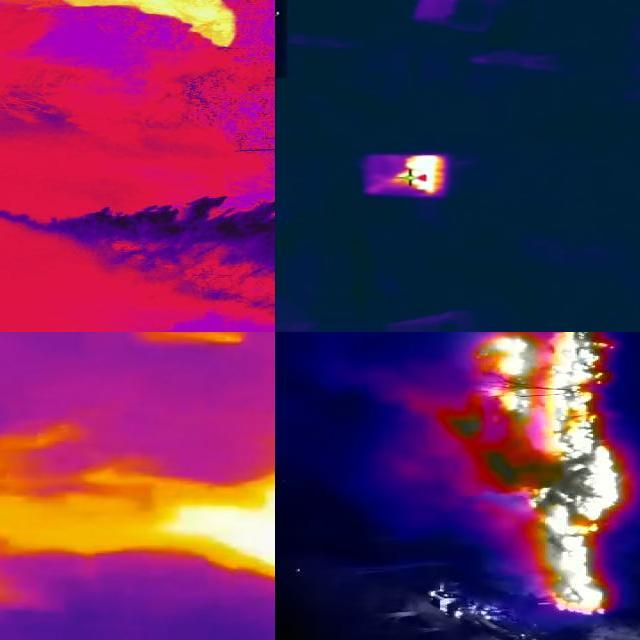fire: (460, 330, 637, 617), (166, 486, 266, 597), (65, 1, 241, 53), (384, 156, 447, 191)
